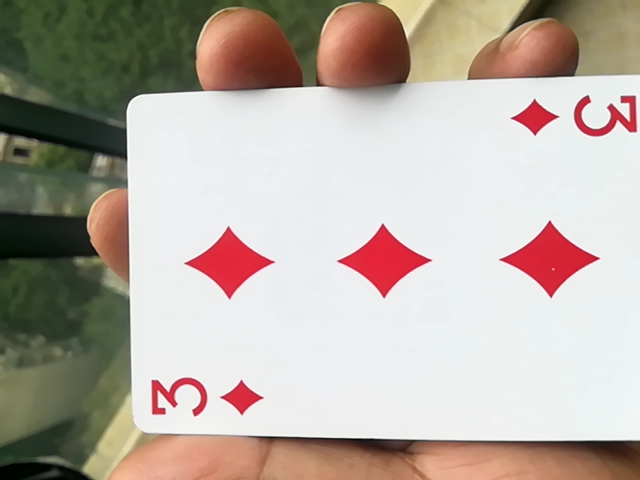fk 3: (112, 100, 635, 463)
